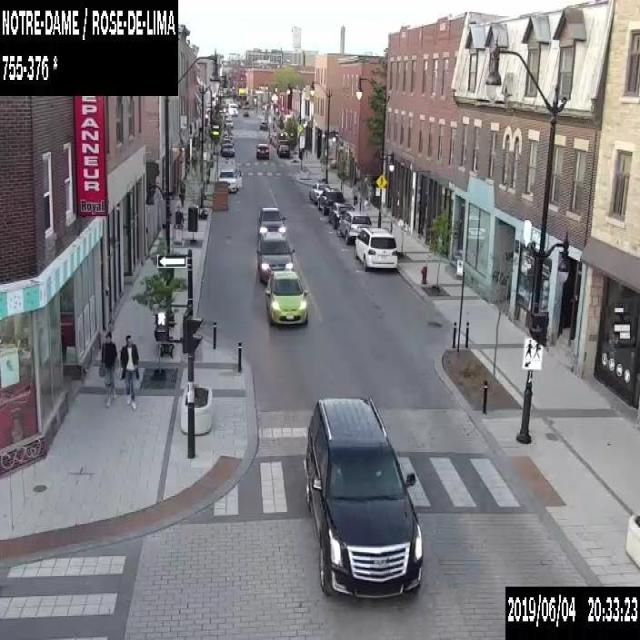pedestrian: (99, 330, 119, 408), (119, 333, 139, 411), (174, 205, 183, 223), (351, 181, 358, 204)
vehicle: (304, 396, 422, 599), (263, 269, 308, 325), (256, 230, 294, 281), (354, 227, 396, 269), (337, 210, 371, 242), (257, 206, 286, 236), (317, 186, 344, 214), (327, 201, 354, 228), (217, 166, 241, 192), (308, 182, 330, 203), (255, 143, 269, 158), (276, 138, 289, 154), (223, 102, 237, 116), (221, 143, 234, 156), (277, 144, 289, 157), (329, 157, 336, 167), (224, 118, 232, 126), (259, 121, 267, 129), (242, 110, 248, 116)
